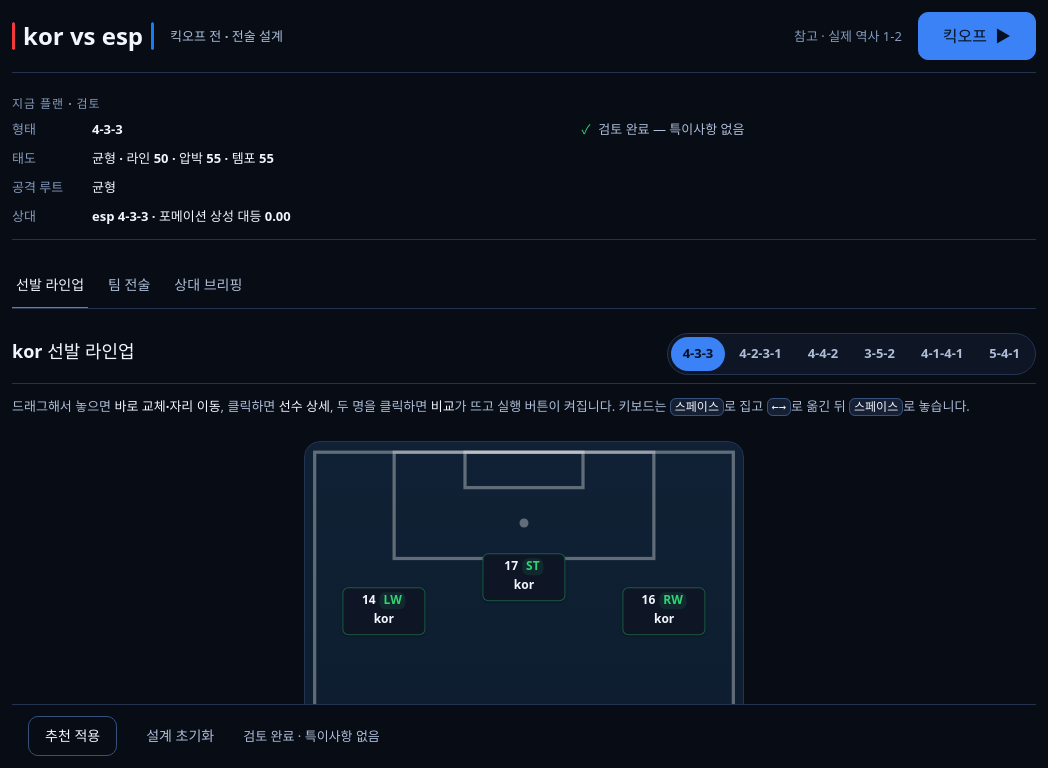
it: TacticsCenter — 킥오프 전 워룸 › 페이즈 포메이션(공격 시) 선택이 요약에 반영된다
Click the tab "팀 전술": (129, 286) [104, 264, 154, 308]
(page scrolled)
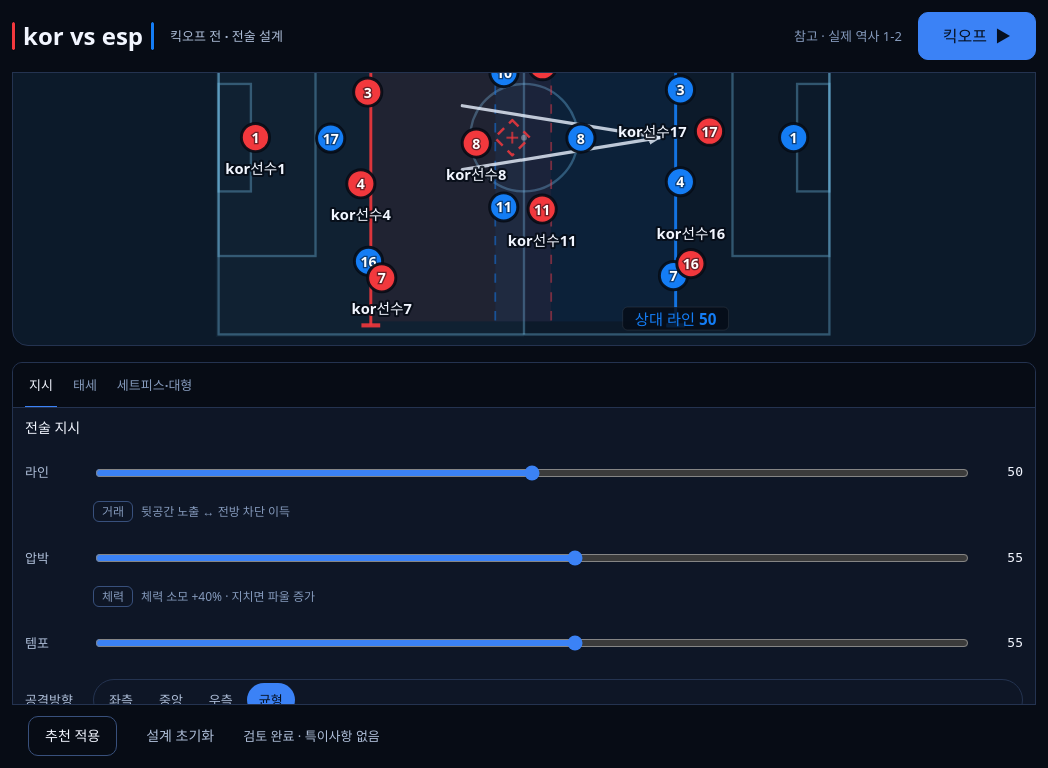
Click the tab with class "tw-tab" showing "세트피스·대형": (155, 385) [113, 363, 196, 407]
(page scrolled)
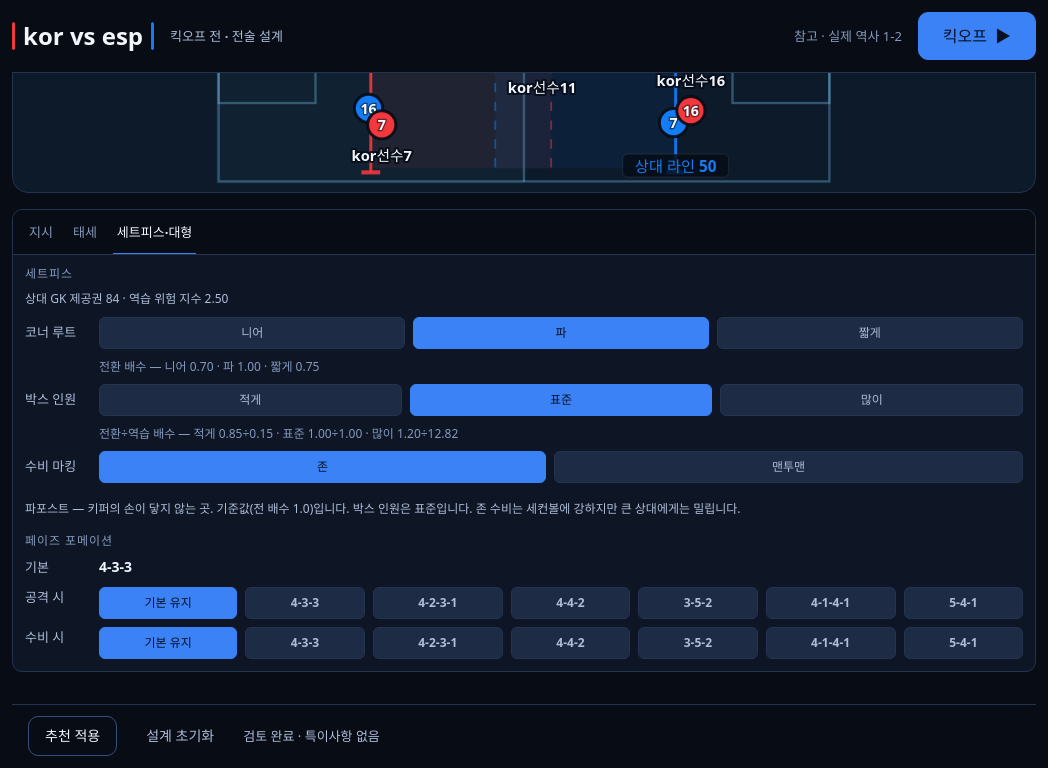
Click the button named "공격 시 3-5-2": (698, 603) [638, 587, 758, 619]
(page scrolled)
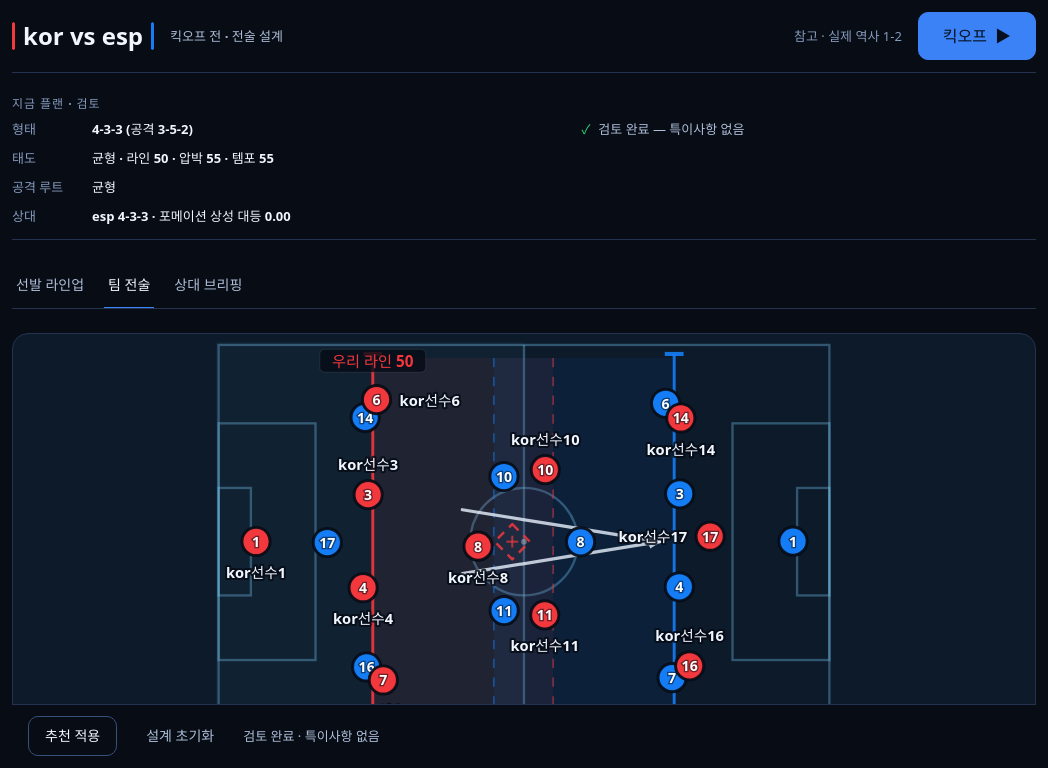
Expected: the element with class "tc-summary" shows "공격 3-5-2", [92, 120, 193, 138]
